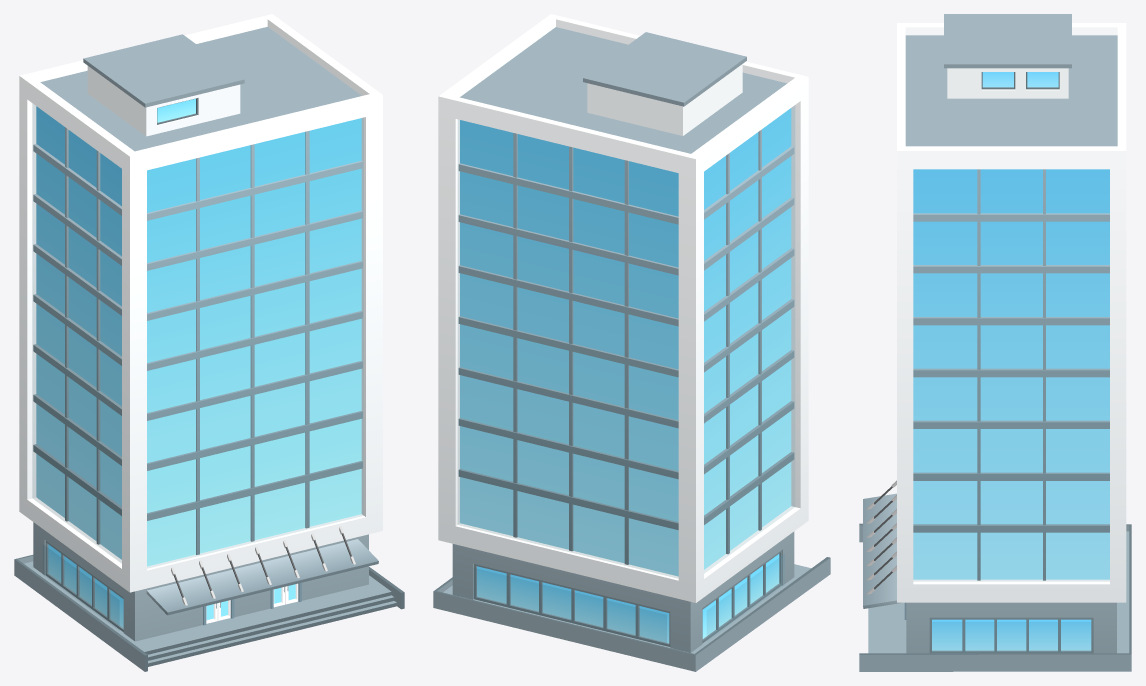
File: city2-building-business-05.glb
3 renders of one model, left to right at view 1: azimuth 30°, elevation 25°; view 2: azimuth 150°, elevation 25°; view 3: azimuth 270°, elevation 25°, orthographic. The views are drawn at different scales.
Visible parts, largest first — view 1: Building_Business_05; view 2: Building_Business_05; view 3: Building_Business_05.
Part boxes in pixels (x1,y1,x2,y2): Building_Business_05: (14, 14, 404, 671); Building_Business_05: (433, 14, 830, 671); Building_Business_05: (859, 14, 1131, 671).
Bounding box in the file's own units: 17.05 × 33.15 × 14.94.
2 materials, 2 textured.
